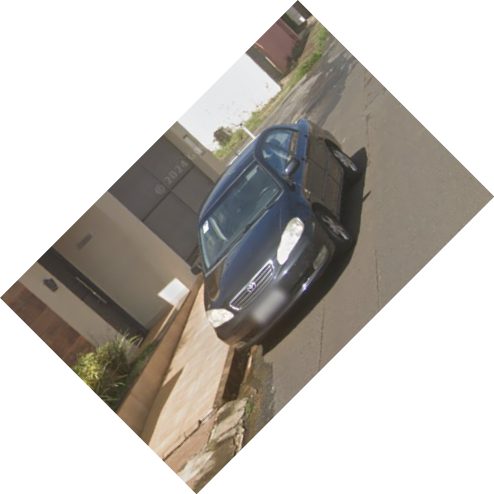car: (192, 114, 364, 357)
